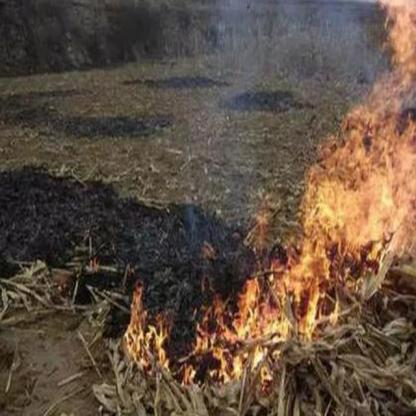fire: (299, 2, 412, 268), (178, 258, 326, 382), (121, 278, 182, 382)
